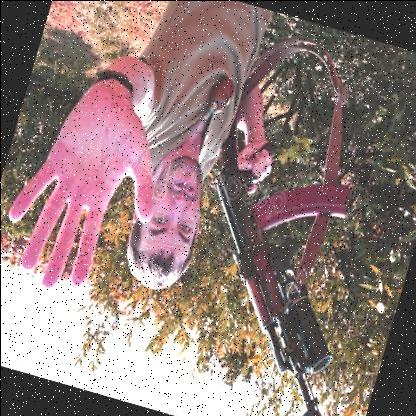rifle: (147, 125, 416, 416)
